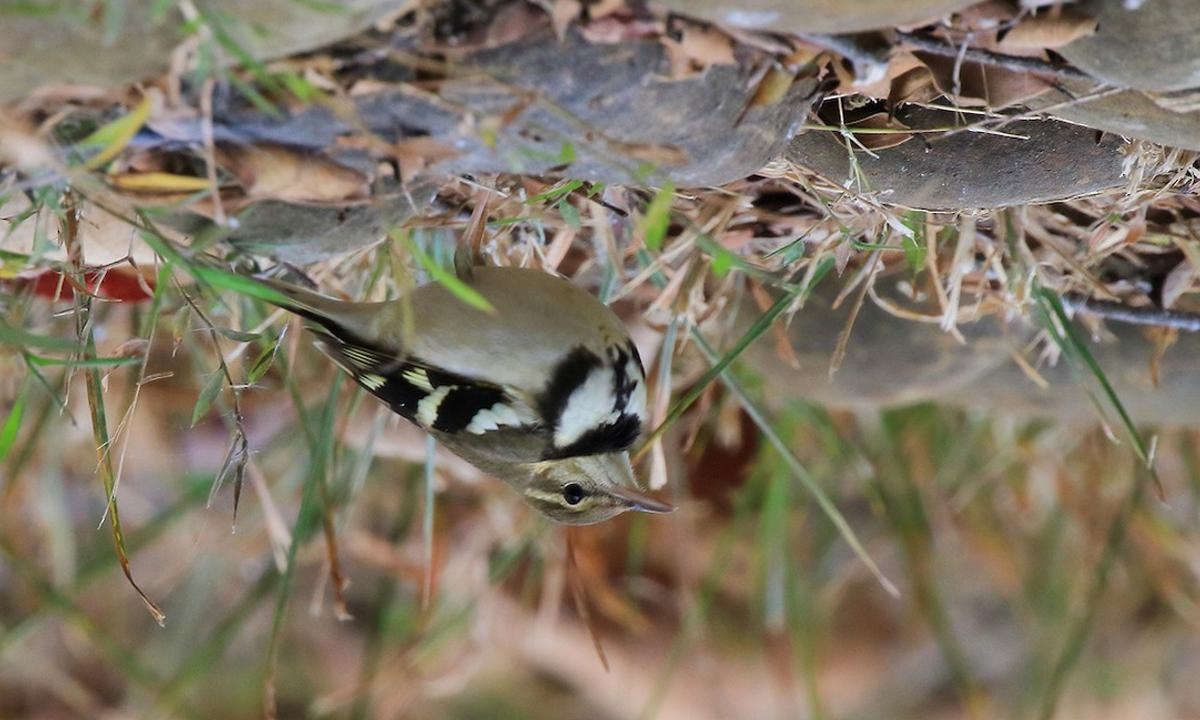wagtail: (259, 258, 710, 543)
